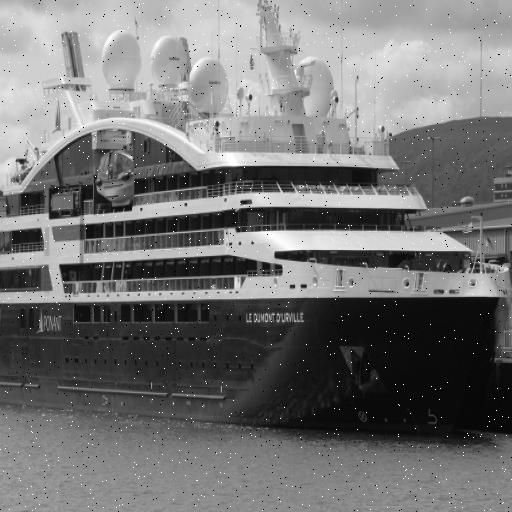cruises: (1, 1, 512, 454)
